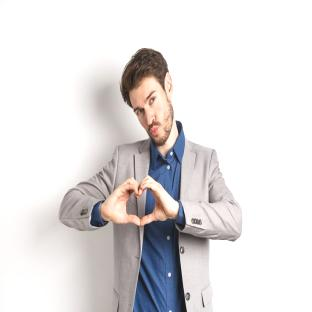Human: (59, 48, 242, 311)
